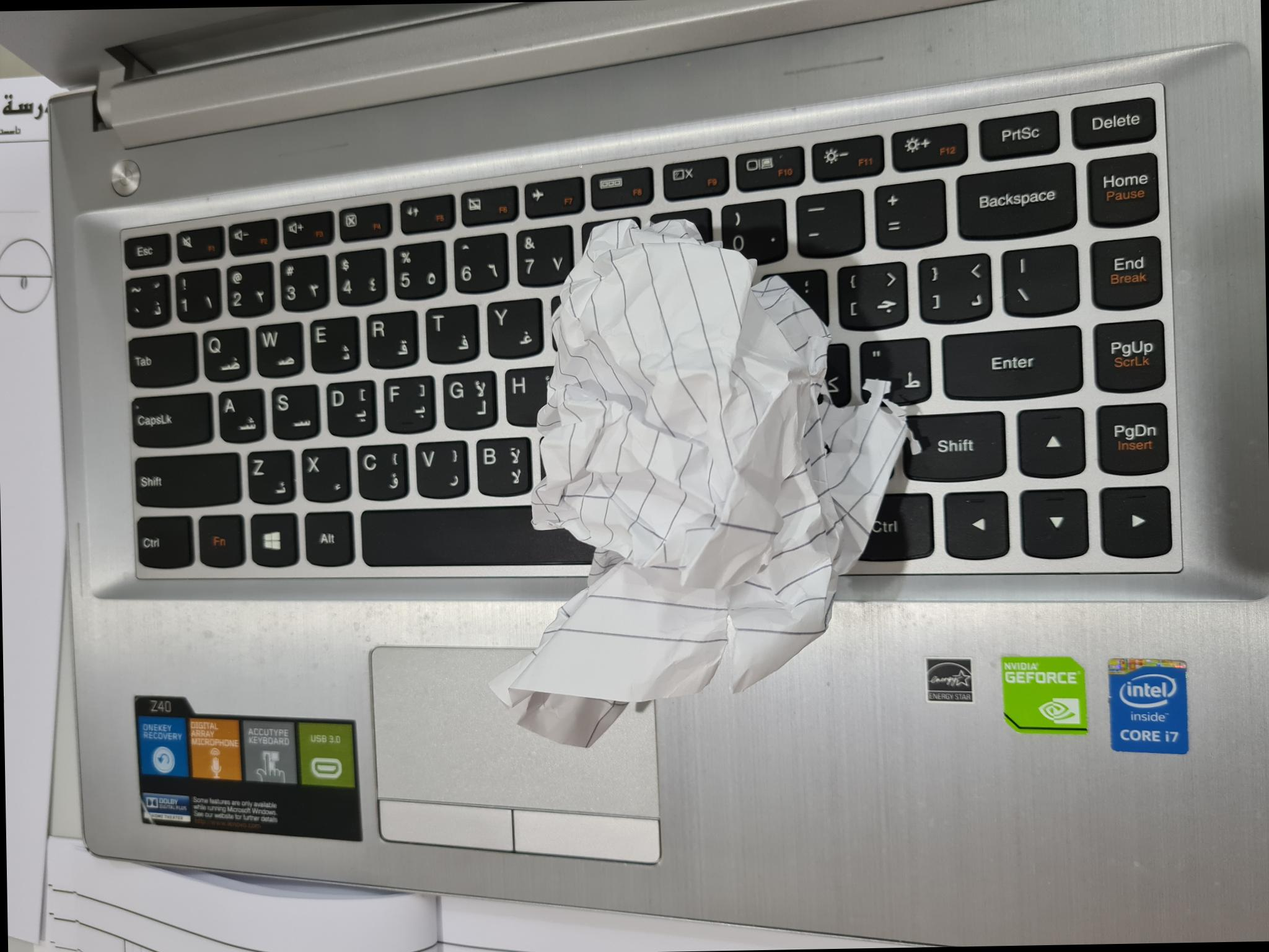Kertas: (213, 511, 751, 927)
